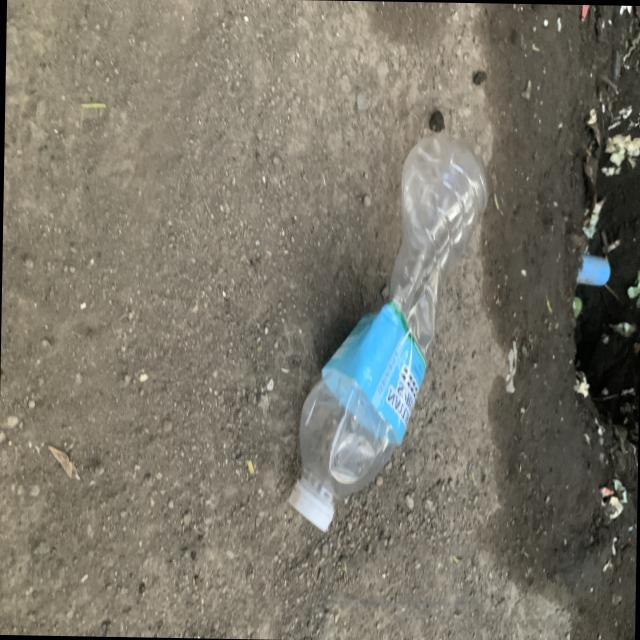Bottle: (288, 134, 486, 530)
